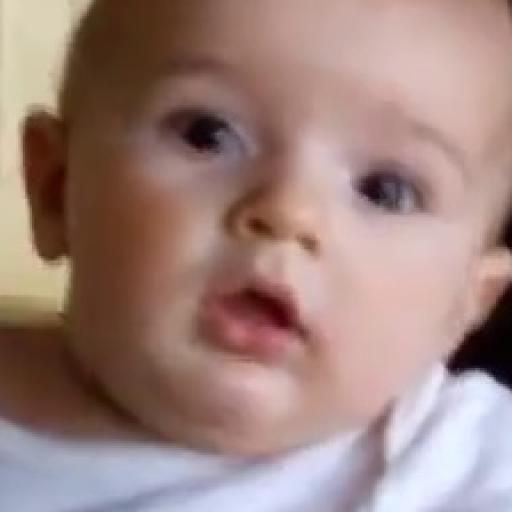Autism: (80, 2, 512, 437)
